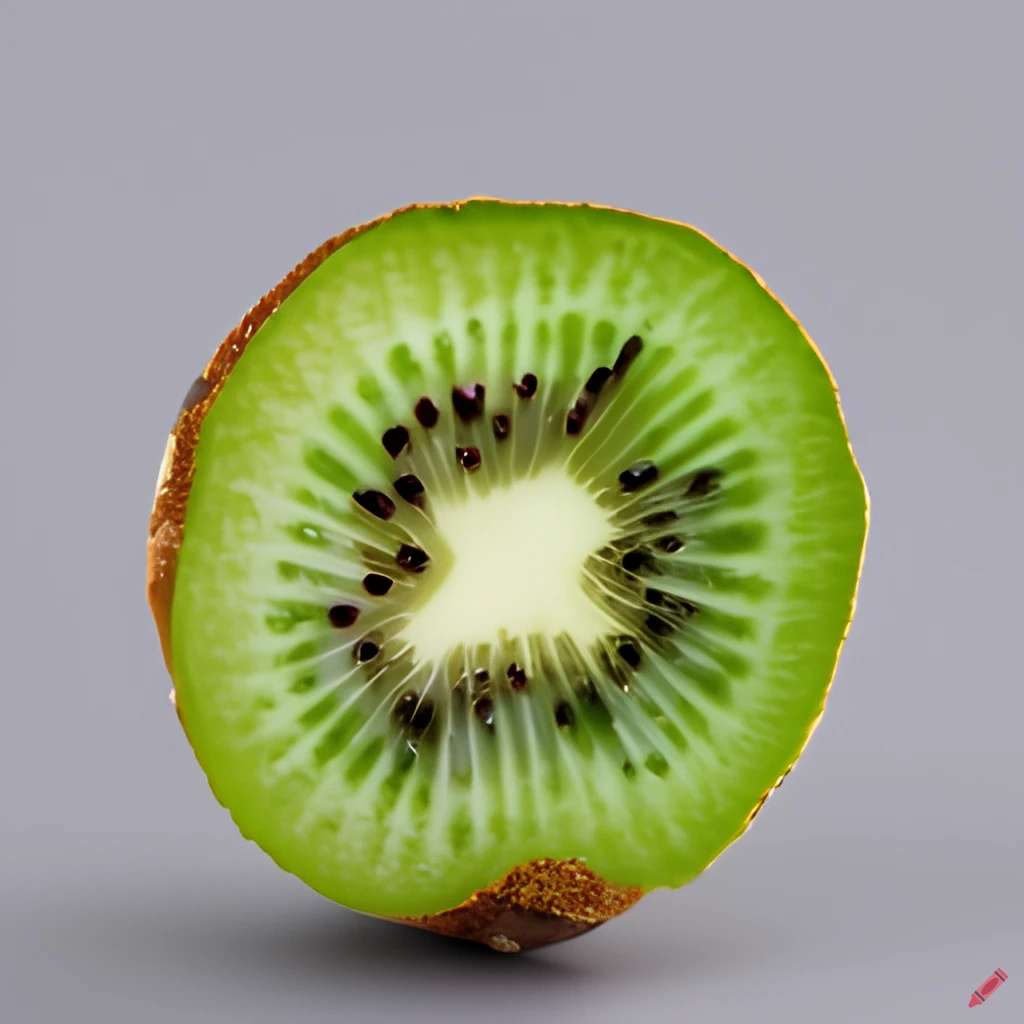Kiwi: (151, 184, 870, 983)
